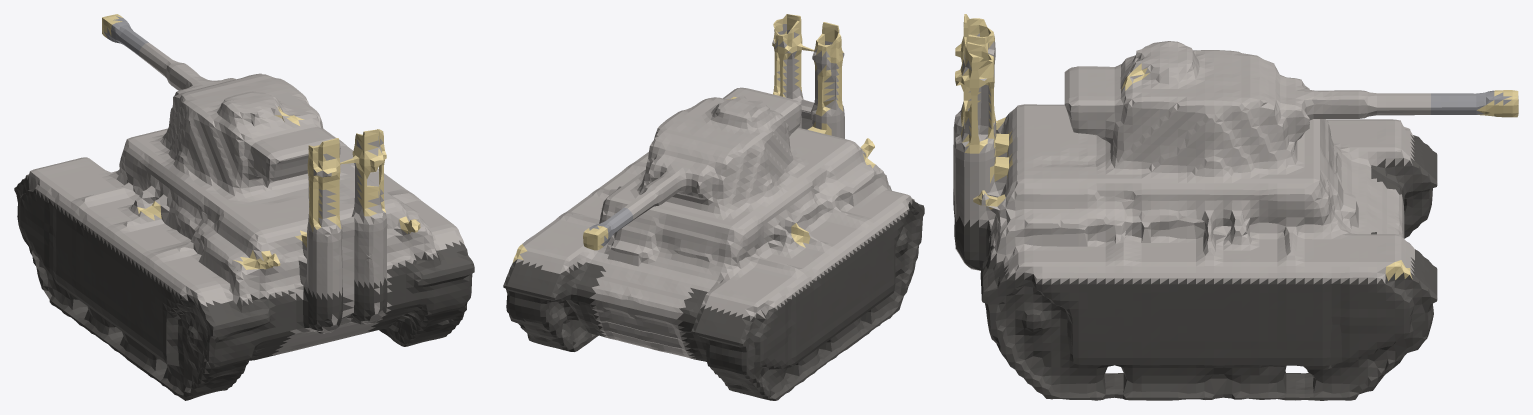
File: unit_bastion.glb
3 views of the same model, side by side, from view 1: azimuth 30°, elevation 25°; view 2: azimuth 150°, elevation 25°; view 3: azimuth 270°, elevation 25° (orthographic). The views are drawn at different scales.
Parts seen in each view (by area): view 1: Mesh_0.024; view 2: Mesh_0.024; view 3: Mesh_0.024.
Part boxes in pixels (left/top/right/bottom): Mesh_0.024: left=14, top=14, right=474, bottom=400; Mesh_0.024: left=503, top=14, right=924, bottom=400; Mesh_0.024: left=953, top=14, right=1518, bottom=400.
Size of the model in its own units: 2.08 by 1.87 by 3.2.
